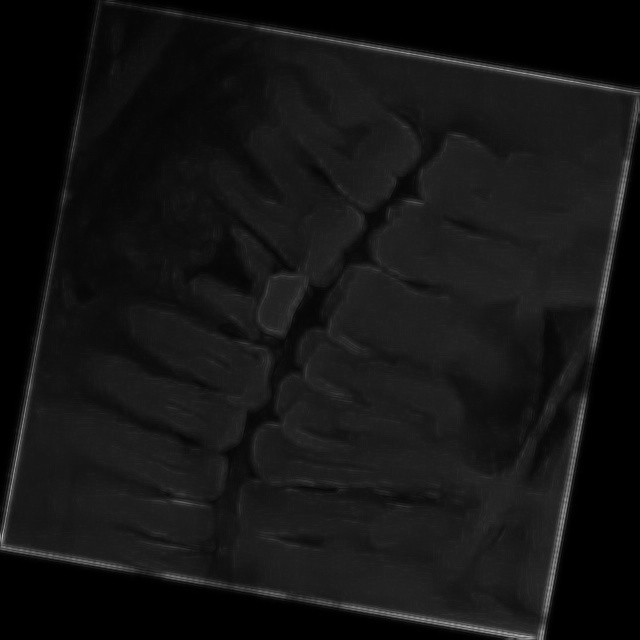Class 2- incomplete endodontic treatment: (132, 194, 374, 382)
